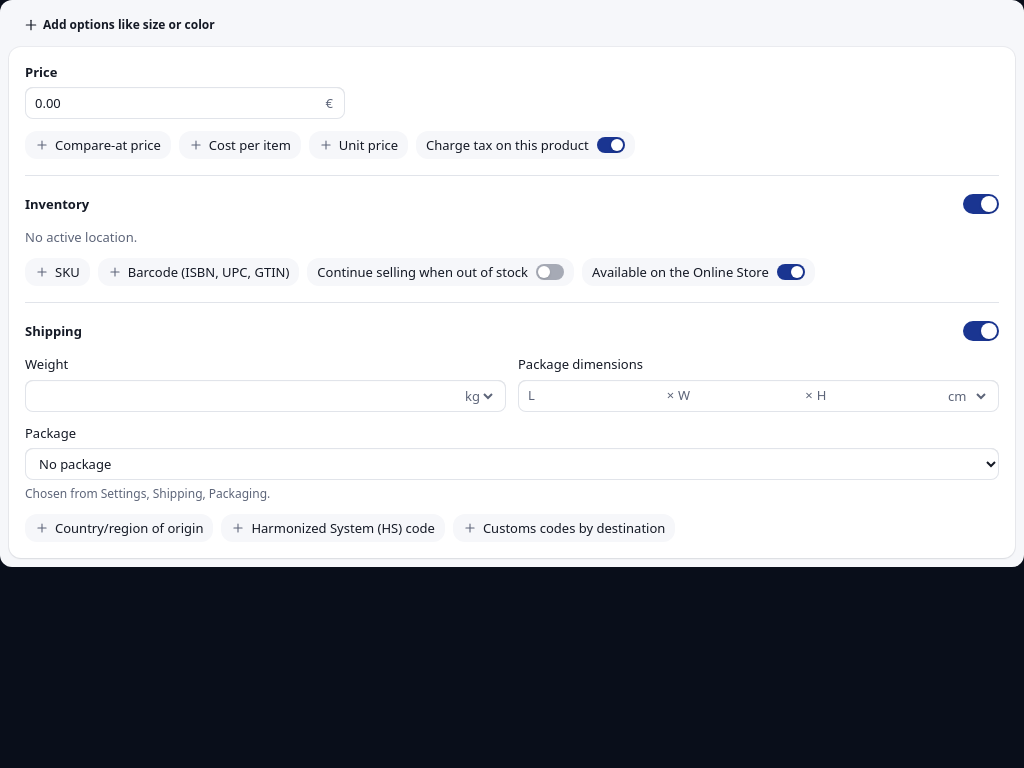
VariantsManager options › reveals optional fields on demand
Click the button "SKU": x=57, y=272 [25, 258, 90, 286]
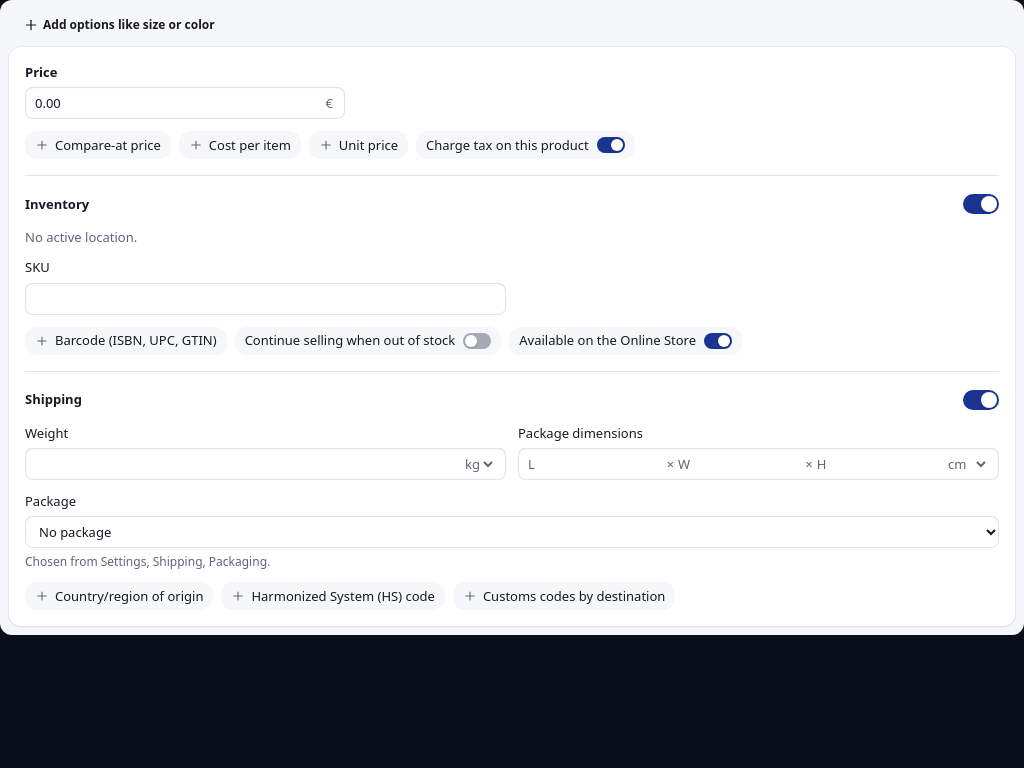
Result: the field labelled "SKU" is shown at [25, 283, 506, 315]
